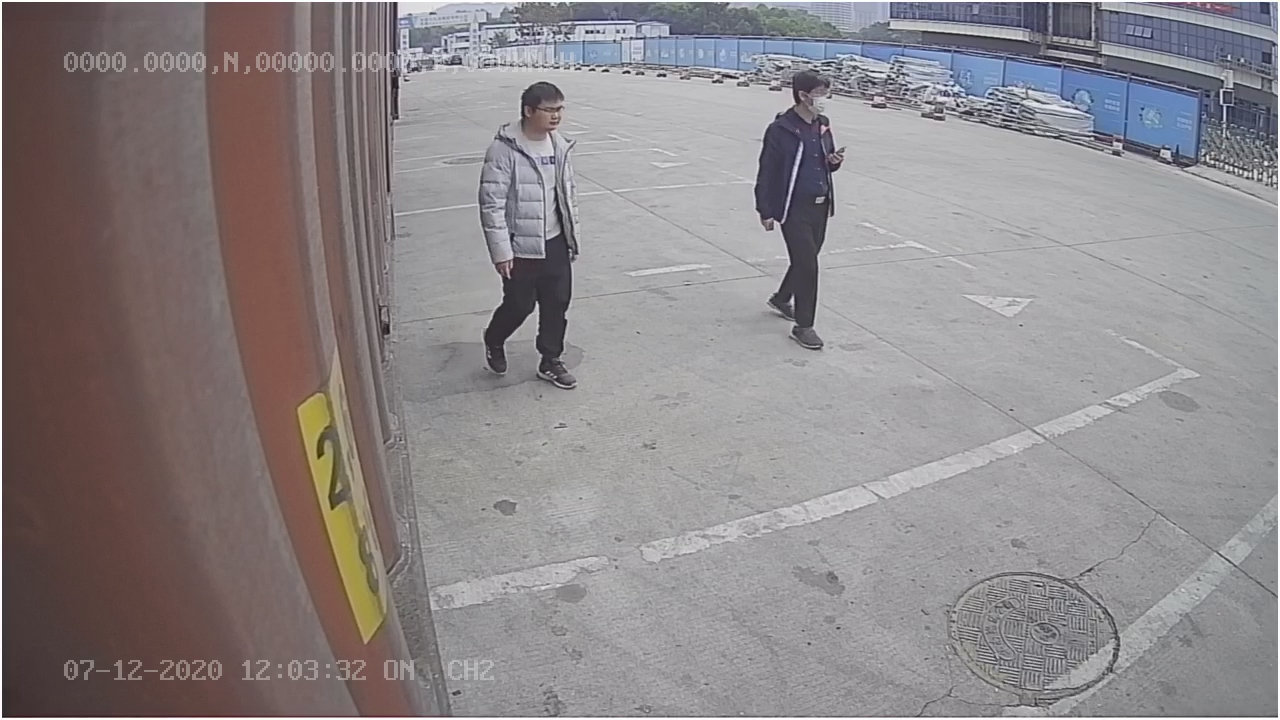person: (472, 83, 594, 386), (752, 68, 854, 356)
